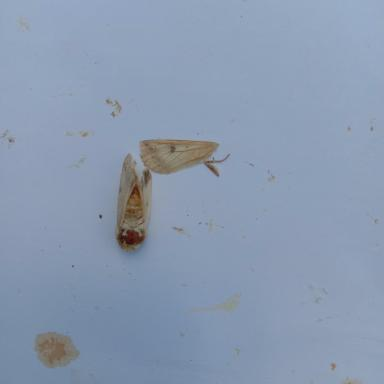abw: (117, 149, 152, 251)
